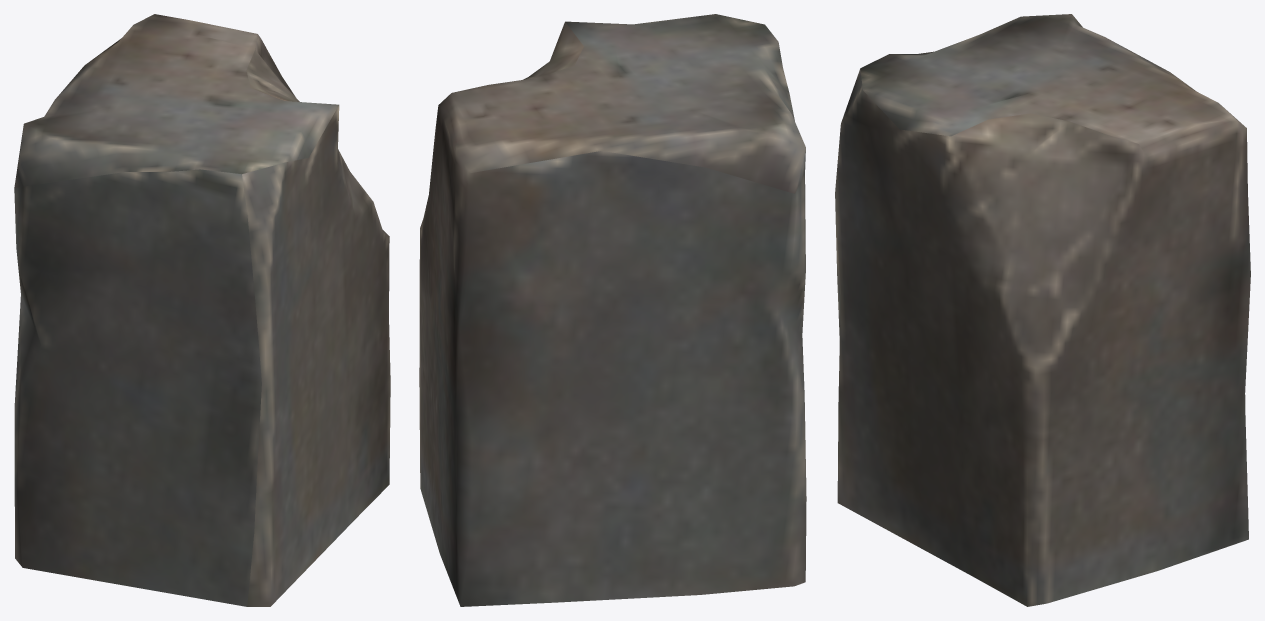
File: Rock_A14.fbx
3 views of the same model, side by side, from view 1: azimuth 30°, elevation 25°; view 2: azimuth 150°, elevation 25°; view 3: azimuth 270°, elevation 25° (orthographic). The views are drawn at different scales.
Parts seen in each view (by area): view 1: Rock_A14__6_; view 2: Rock_A14__6_; view 3: Rock_A14__6_.
Boxes of the visible parts, box(x1,y1,x2,y2) form: Rock_A14__6_: box(14, 14, 390, 606); Rock_A14__6_: box(419, 14, 806, 606); Rock_A14__6_: box(835, 14, 1250, 606).
Bounding box in the file's own units: 0.2436 × 0.2719 × 0.2395.
